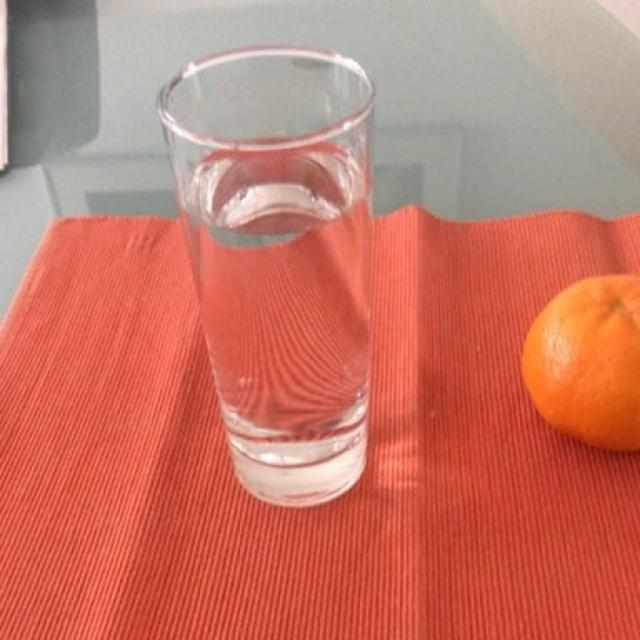water: (172, 142, 370, 470)
